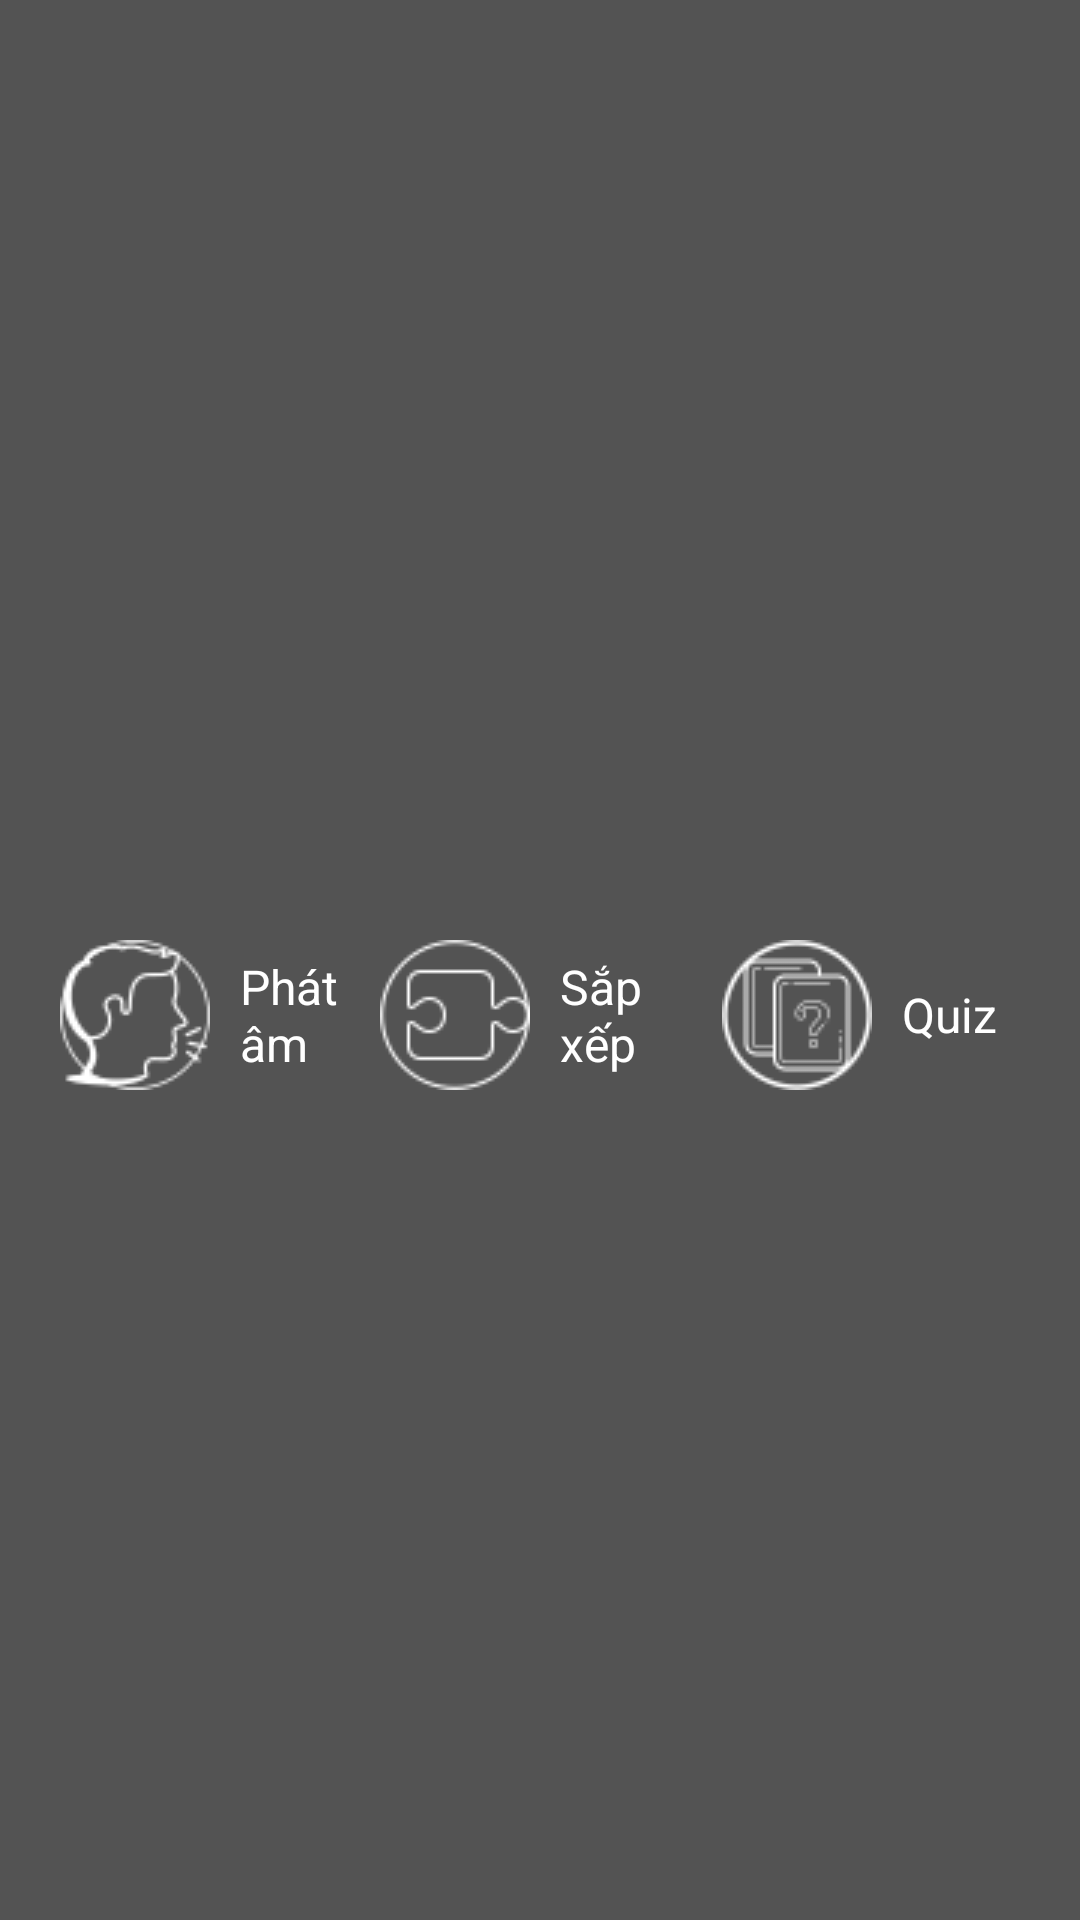

Where icons sit on this 1080 x 1920 app screen, as [x1, y1, x2, y2]:
purzle: [380, 940, 530, 1090]
speak: [60, 940, 210, 1090]
